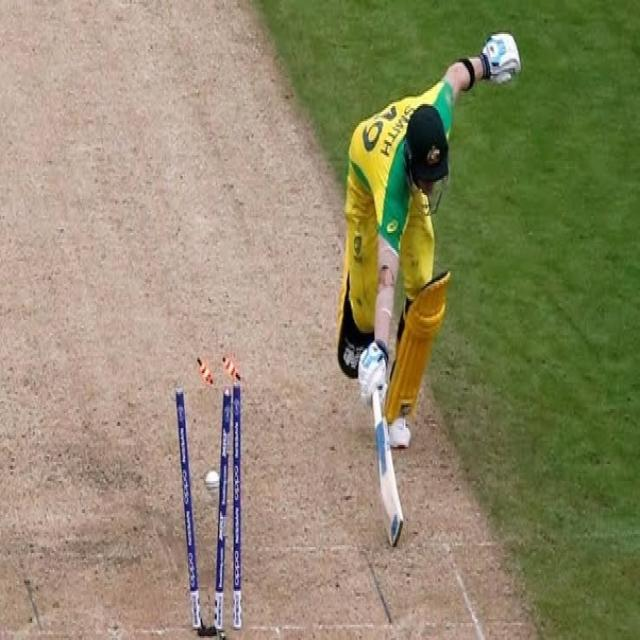stump: (175, 356, 244, 632)
